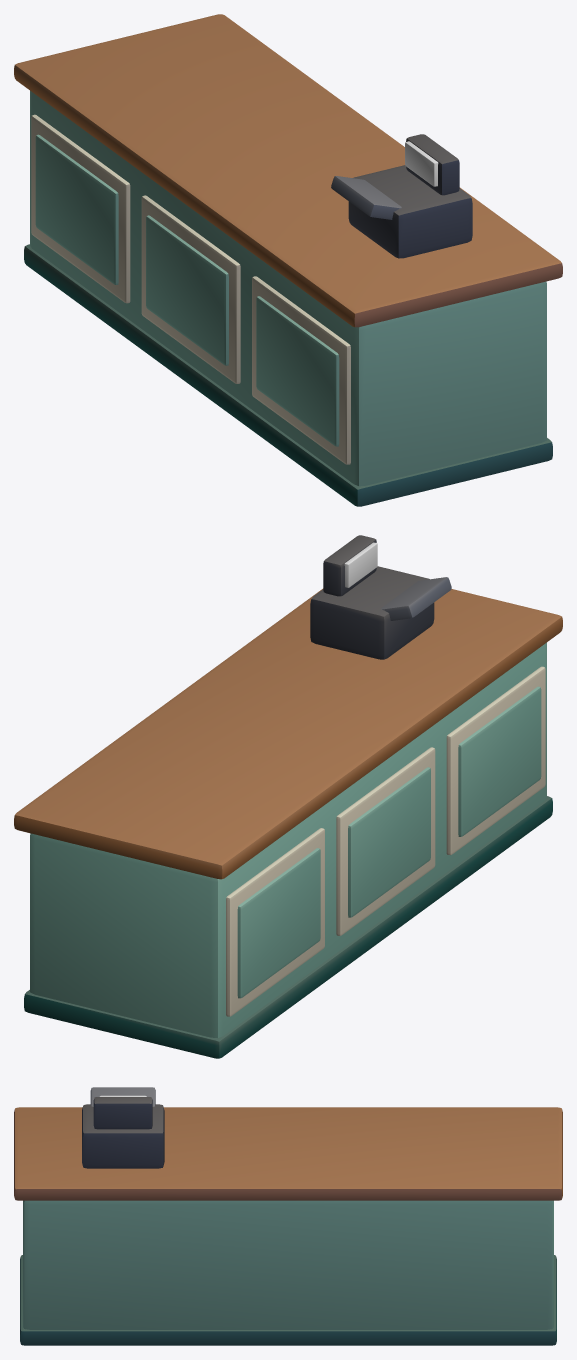
The model's file is ShopCounter.fbx.
3 renders of one model, top to bottom at view 1: azimuth 30°, elevation 25°; view 2: azimuth 150°, elevation 25°; view 3: azimuth 270°, elevation 25°, orthographic. The views are drawn at different scales.
Parts seen in each view (by area): view 1: SM_Shop_Counter, SM_Shop_RegisterScreen; view 2: SM_Shop_Counter, SM_Shop_RegisterScreen; view 3: SM_Shop_Counter.
Boxes of the visible parts, x1,y1,x2,y2 form: SM_Shop_Counter: (14, 14, 562, 506); SM_Shop_RegisterScreen: (405, 141, 438, 186); SM_Shop_Counter: (14, 535, 562, 1058); SM_Shop_RegisterScreen: (344, 542, 377, 587); SM_Shop_Counter: (14, 1087, 562, 1345).
Bounding box in the file's own units: 3.3 × 4.2 × 9.3.
